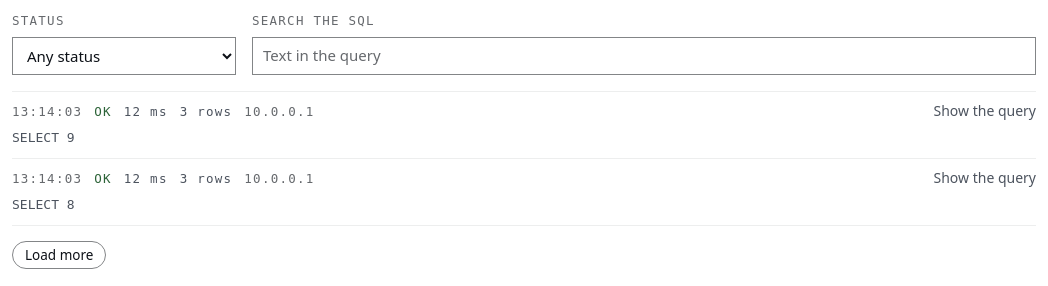
Test: the queries tab › searches the text once the typing stops, never past the bound
The image size is (1048, 286).
Type "guests" into the search field labelled "Search the SQL". click: (644, 56)
box: [252,37,1036,75]
Wait 300 ms
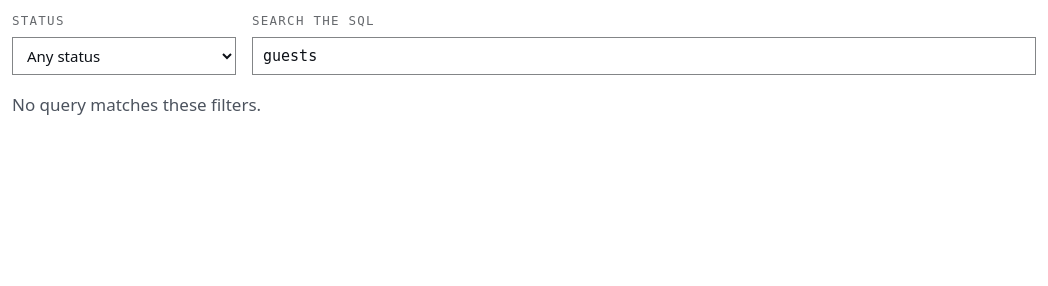
Check: the text "No query matches these filters." is shown, box [12,93,261,116]
